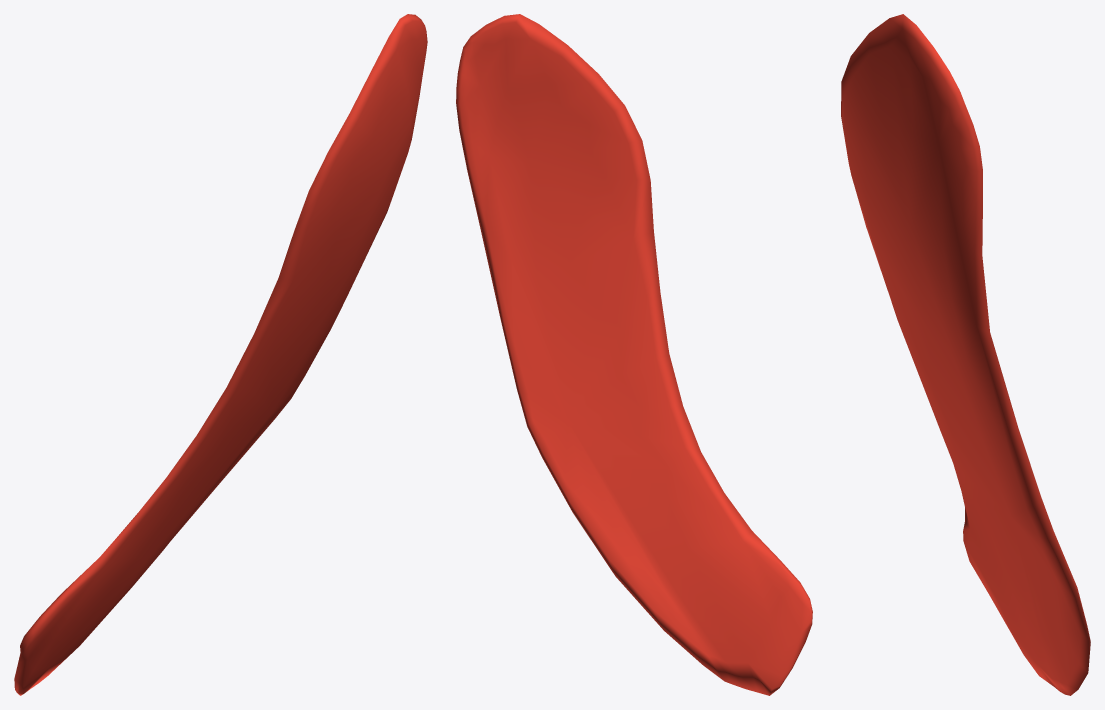
Rendered from Quadratus_femoris-Ischiatic_insertion.l_Generated_Mesh_From_X3D.glb.
3 views of the same model, side by side, from view 1: azimuth 30°, elevation 25°; view 2: azimuth 150°, elevation 25°; view 3: azimuth 270°, elevation 25° (orthographic). The views are drawn at different scales.
Visible parts, largest first — view 1: Quadratus_femoris-Ischiatic_insertion.l_Generated_Mesh_From_; view 2: Quadratus_femoris-Ischiatic_insertion.l_Generated_Mesh_From_; view 3: Quadratus_femoris-Ischiatic_insertion.l_Generated_Mesh_From_.
Boxes of the visible parts, box(x1,y1,x2,y2) form: Quadratus_femoris-Ischiatic_insertion.l_Generated_Mesh_From_: box(14, 14, 427, 695); Quadratus_femoris-Ischiatic_insertion.l_Generated_Mesh_From_: box(456, 14, 812, 695); Quadratus_femoris-Ischiatic_insertion.l_Generated_Mesh_From_: box(841, 14, 1090, 695).
Bounding box in the file's own units: 0.0189 × 0.0289 × 0.00733.
